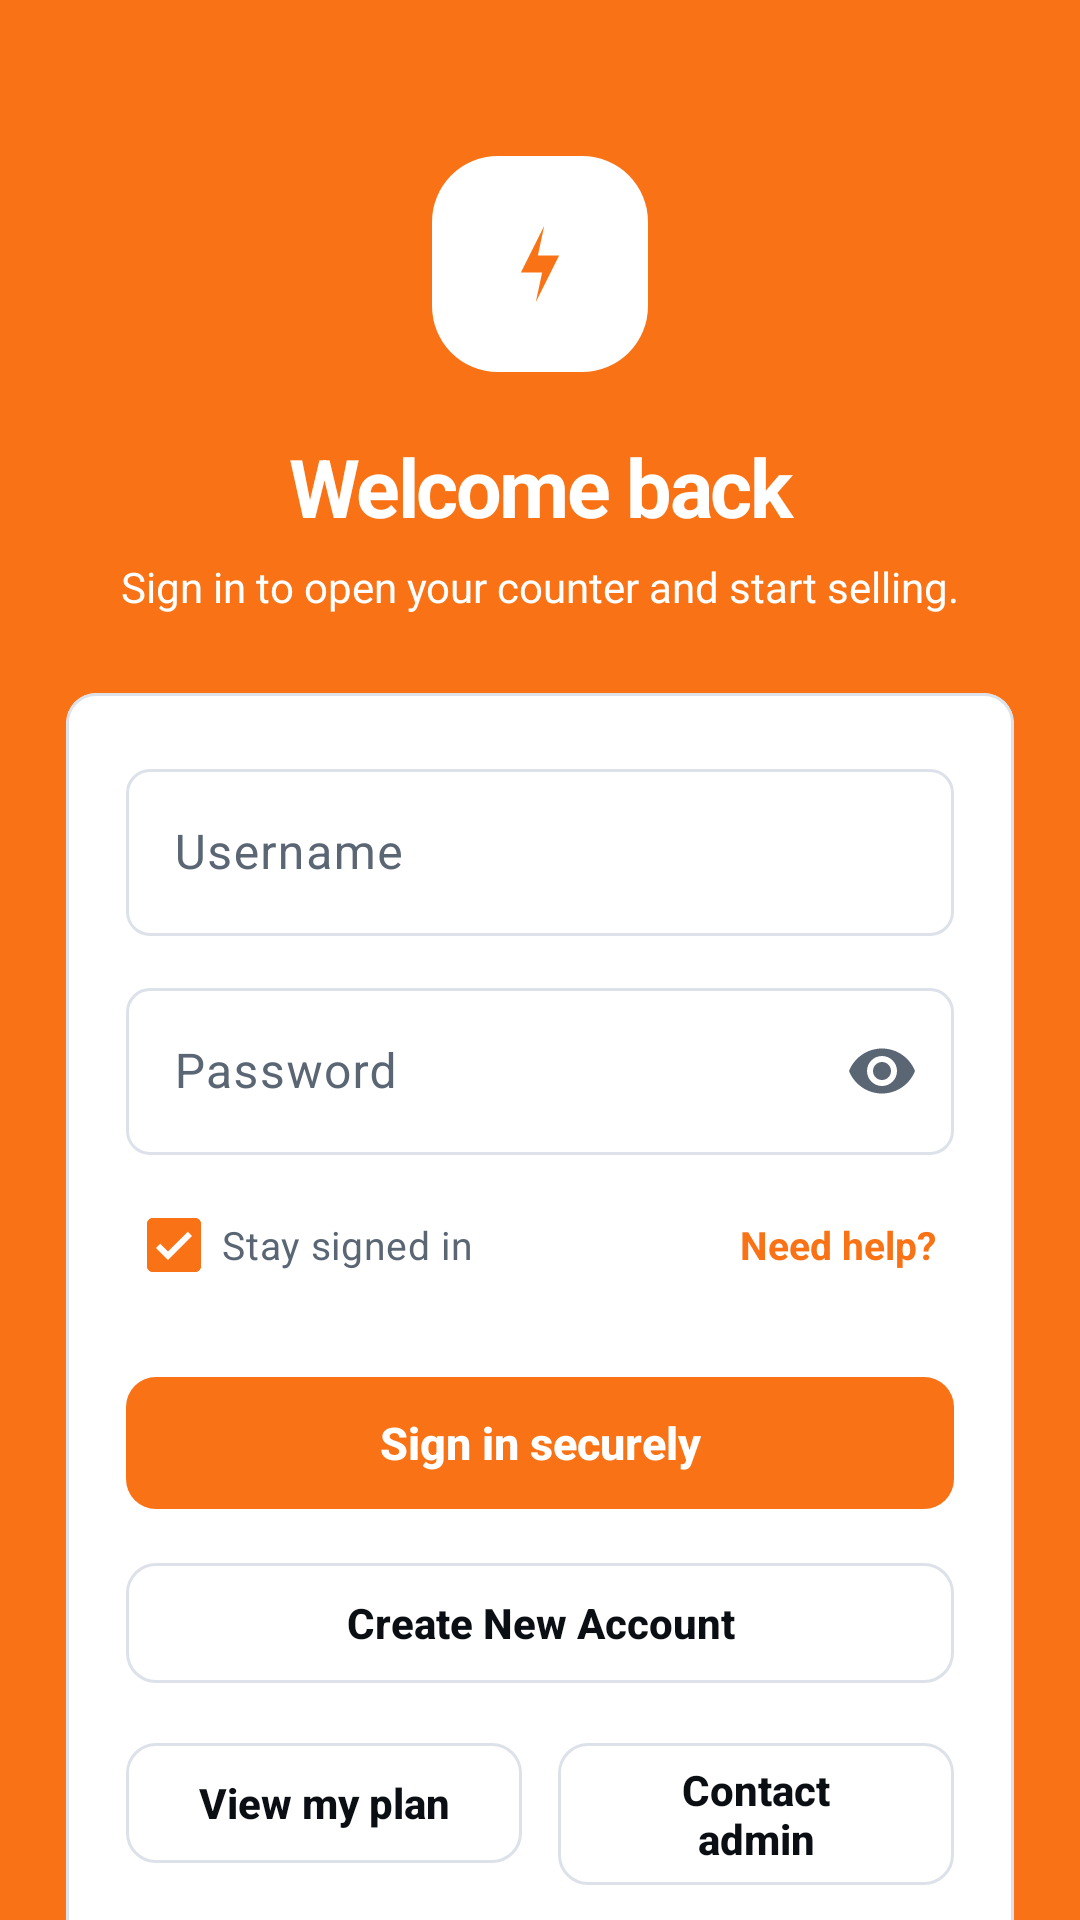

Icons on this 1080px×1920px Android screen, each with the point to tap as (x,y):
bolt: (540,264)
